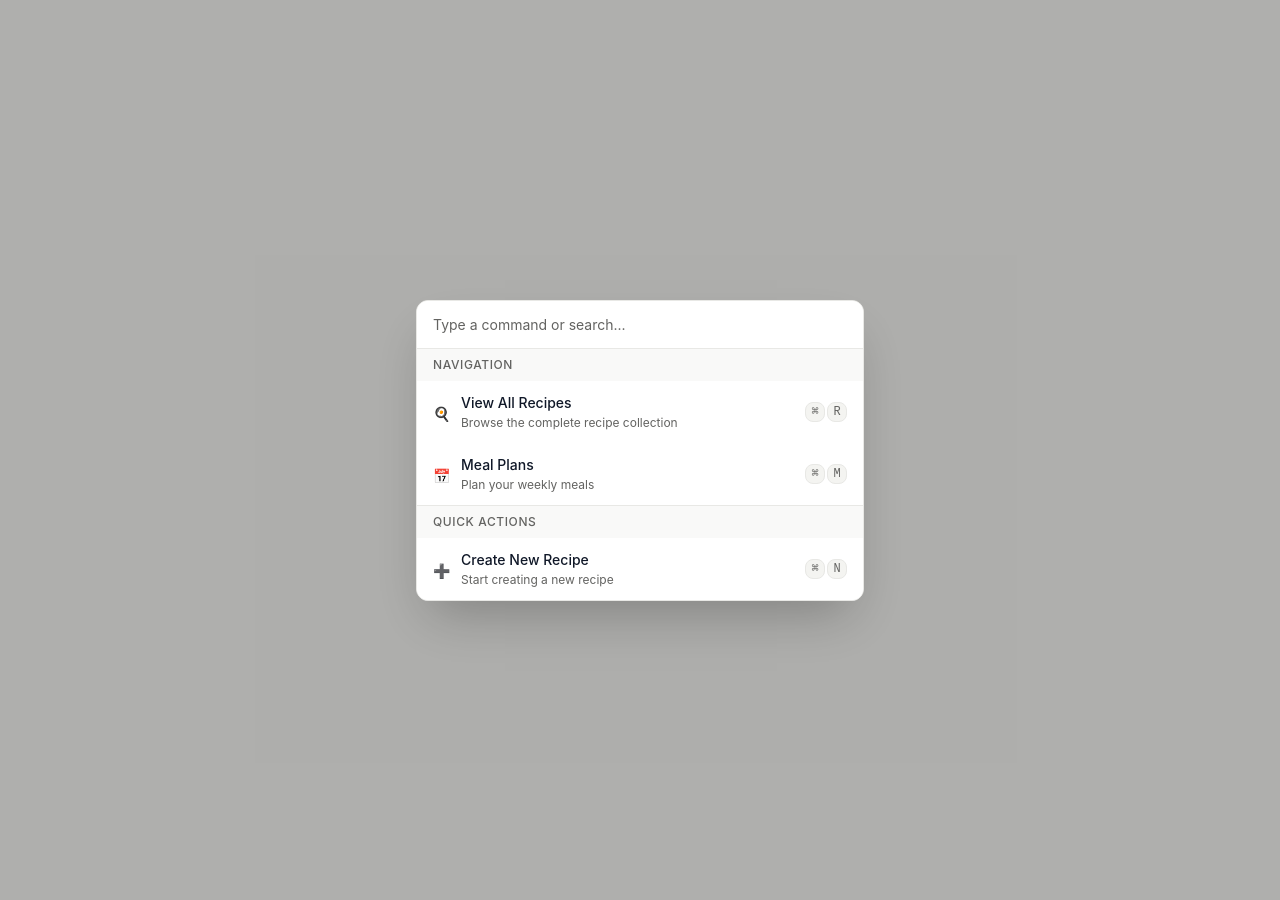
CommandPalette › Search Functionality › searches in command descriptions
Type "weekly" into the search field at [640, 324], box [417,300,863,348]
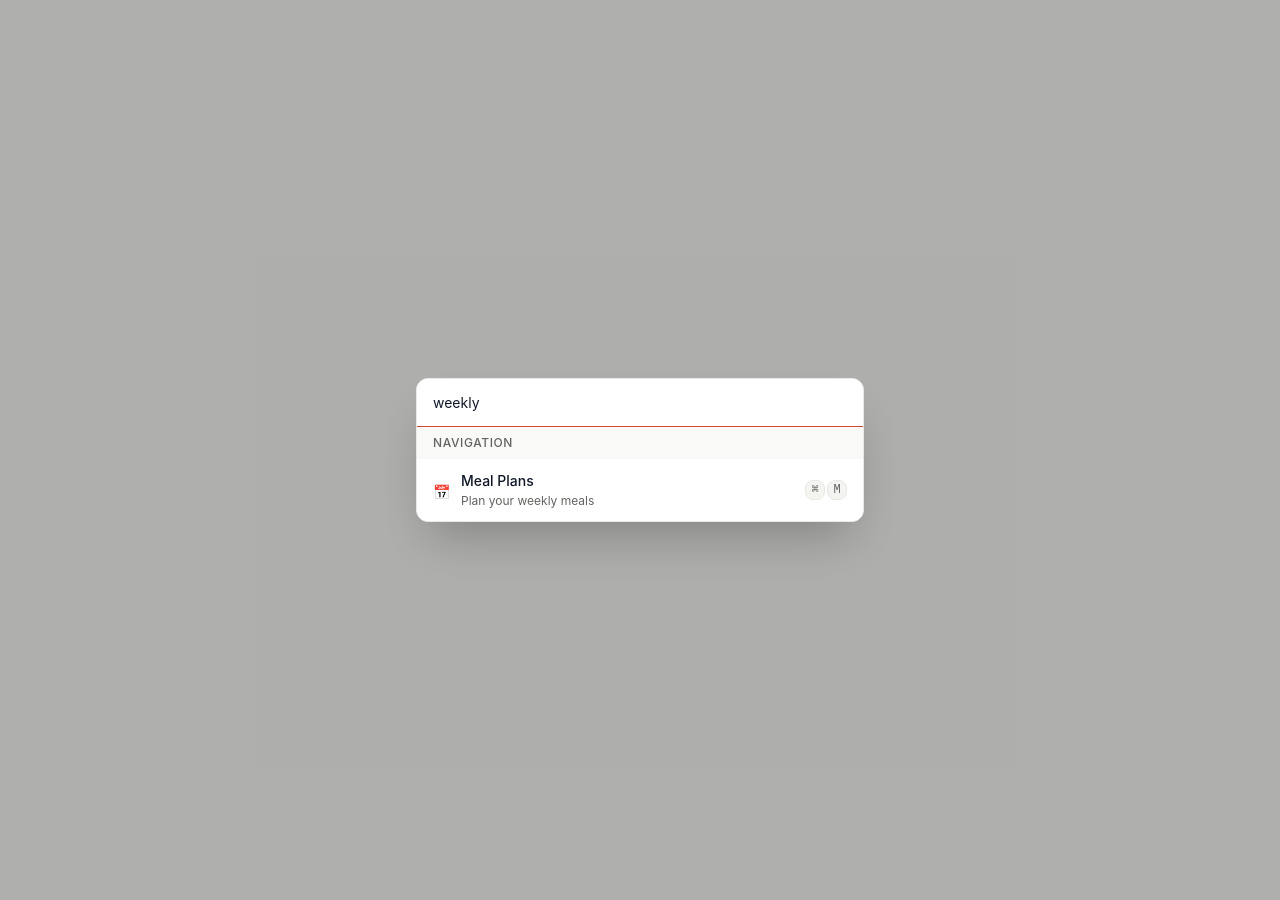
Check: the text "Meal Plans" is shown, box [461,472,534,489]
Check: the option "View All Recipes" is gone
